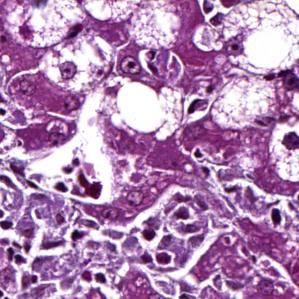ballooning: (209, 68, 290, 131), (37, 33, 117, 96)
